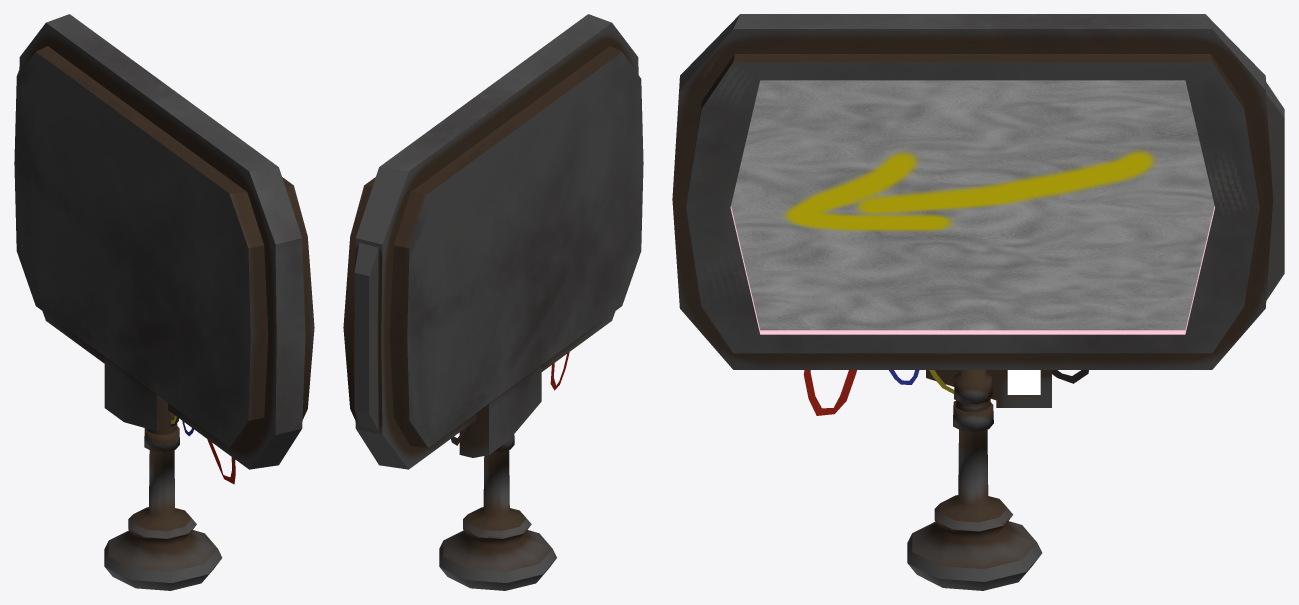
The model's file is Billboard.fbx.
3 views of the same model, side by side, from view 1: azimuth 30°, elevation 25°; view 2: azimuth 150°, elevation 25°; view 3: azimuth 270°, elevation 25° (orthographic). The views are drawn at different scales.
Visible parts, largest first — view 1: Billboard; view 2: Billboard; view 3: Screen, Billboard.
Boxes of the visible parts, x1,y1,x2,y2 form: Billboard: (14,14,314,590); Billboard: (343,14,643,590); Screen: (731,80,1214,330); Billboard: (672,14,1284,590).
Bounding box in the file's own units: 111 × 490 × 495.
